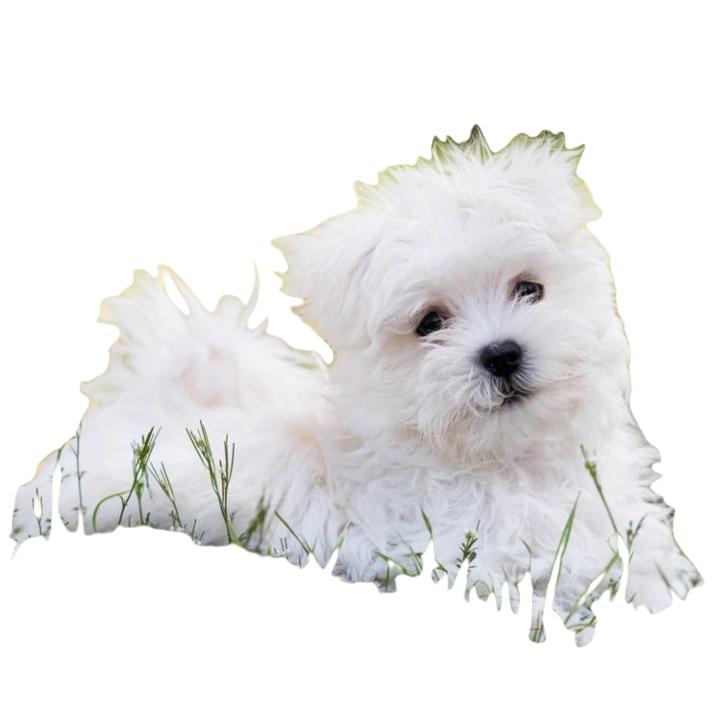Dog: (11, 131, 712, 643)
